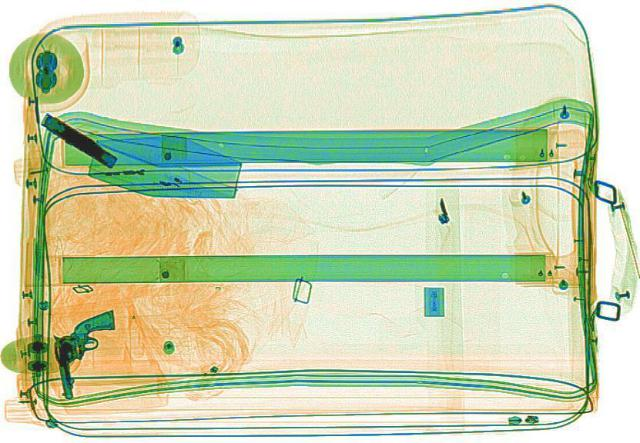Gun: (41, 310, 135, 399), (32, 111, 124, 169)
